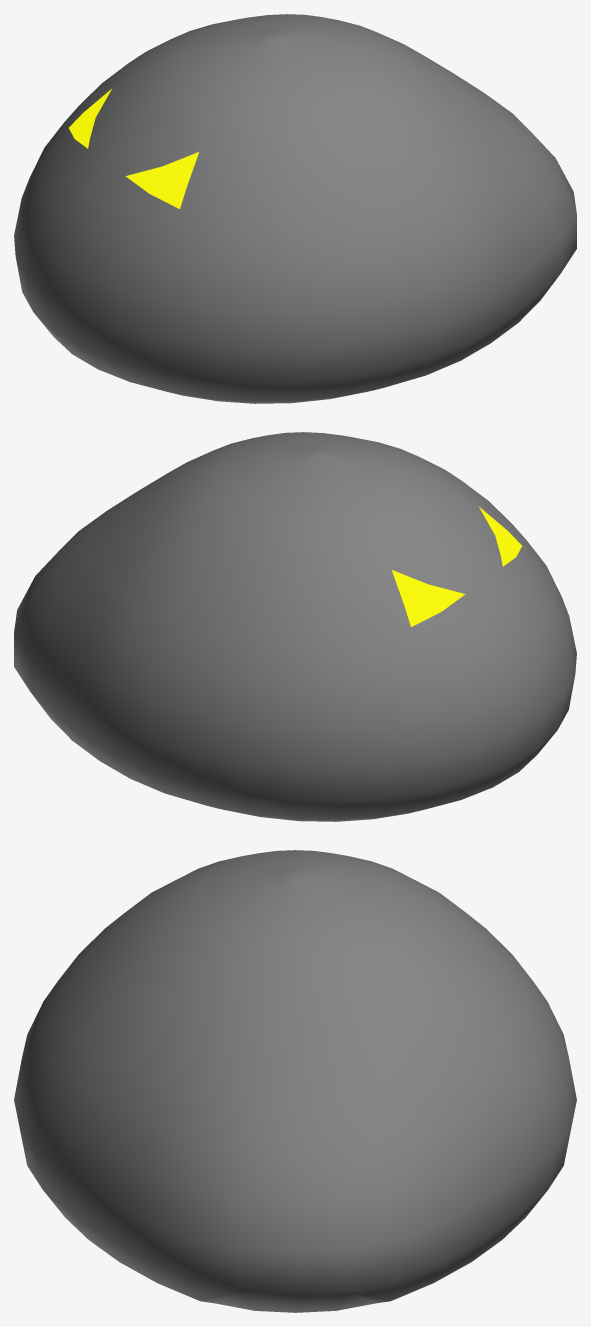
3 renders of one model, top to bottom at view 1: azimuth 30°, elevation 25°; view 2: azimuth 150°, elevation 25°; view 3: azimuth 270°, elevation 25°, orthographic. The views are drawn at different scales.
Parts seen in each view (by area): view 1: Box195; view 2: Box195; view 3: Box195.
Boxes of the visible parts, x1,y1,x2,y2 form: Box195: [14, 14, 576, 403]; Box195: [14, 432, 576, 821]; Box195: [14, 850, 576, 1312].
Size of the model in its own units: 101 by 56.18 by 87.48.
